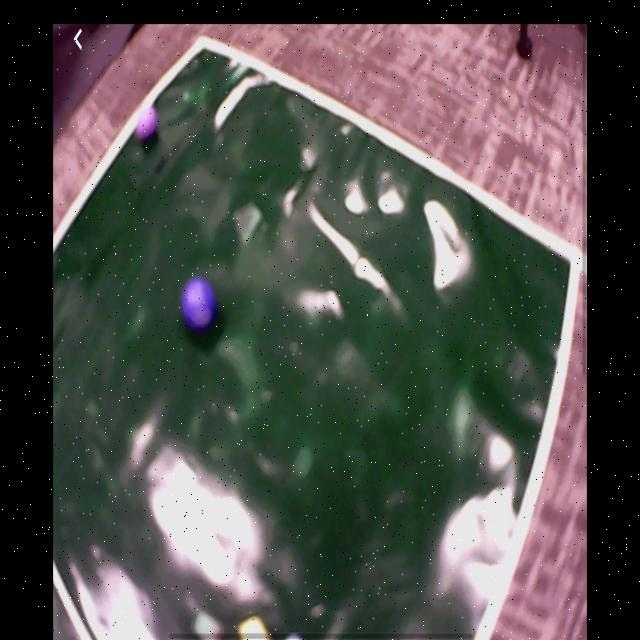ball: (182, 276, 217, 331), (136, 109, 160, 143)
